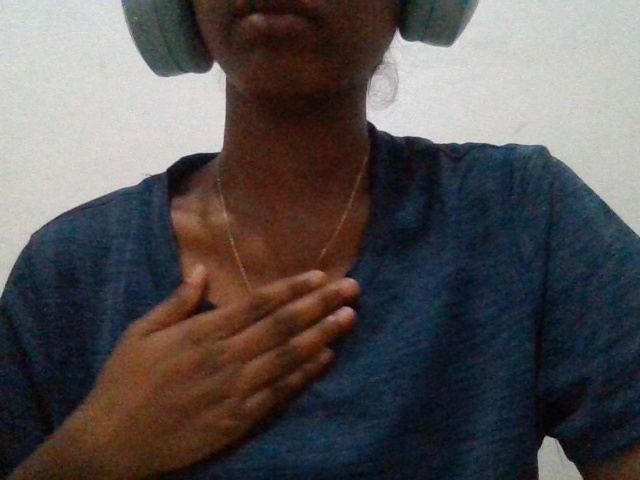Please: (31, 249, 390, 480)
